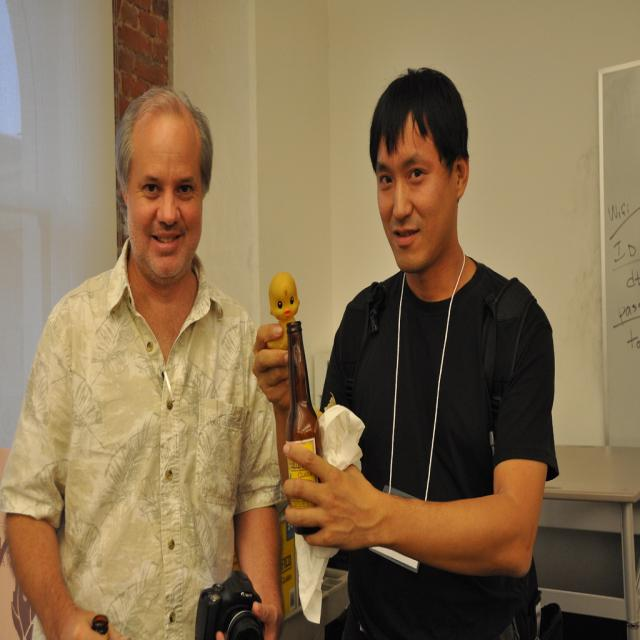desk: (541, 446, 637, 636)
person: (265, 66, 554, 637), (2, 87, 290, 635)
